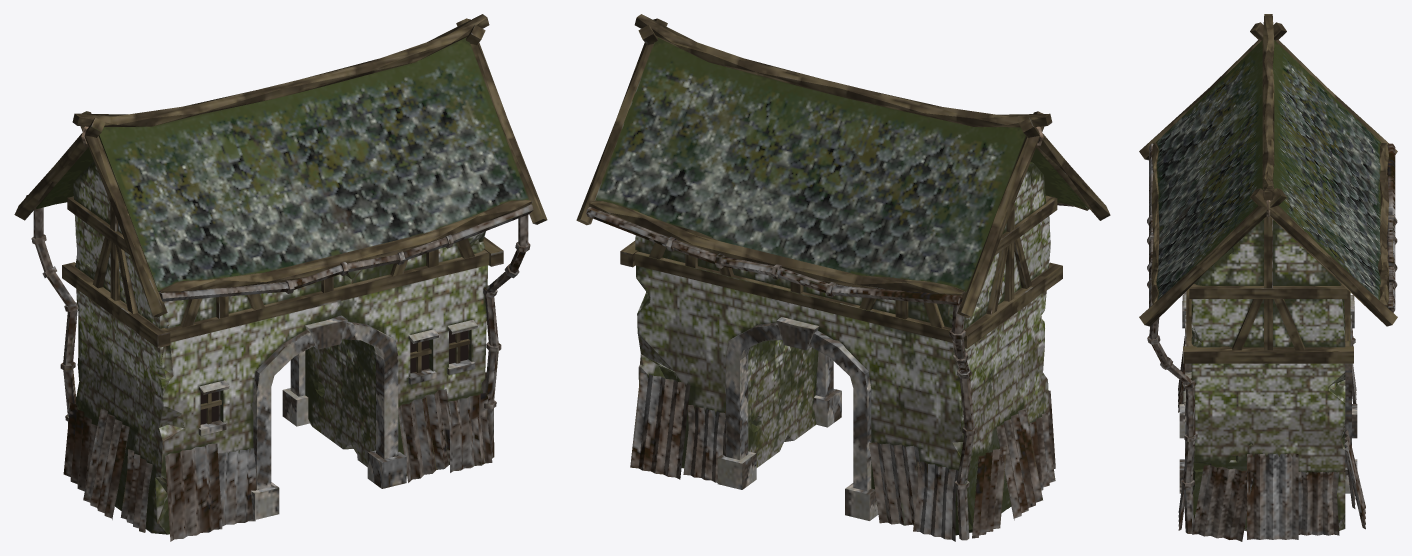
File: Gate.fbx
The picture shows the model from 3 angles, left to right: view 1: azimuth 30°, elevation 25°; view 2: azimuth 150°, elevation 25°; view 3: azimuth 270°, elevation 25°; orthographic projection. The views are drawn at different scales.
Visible parts, largest first — view 1: Gate; view 2: Gate; view 3: Gate.
Boxes of the visible parts, left/top/right/bottom form: Gate: left=14, top=14, right=547, bottom=541; Gate: left=576, top=14, right=1110, bottom=541; Gate: left=1139, top=14, right=1397, bottom=541.
Bounding box in the file's own units: 1056 × 998 × 642.
1 material, 1 textured.
